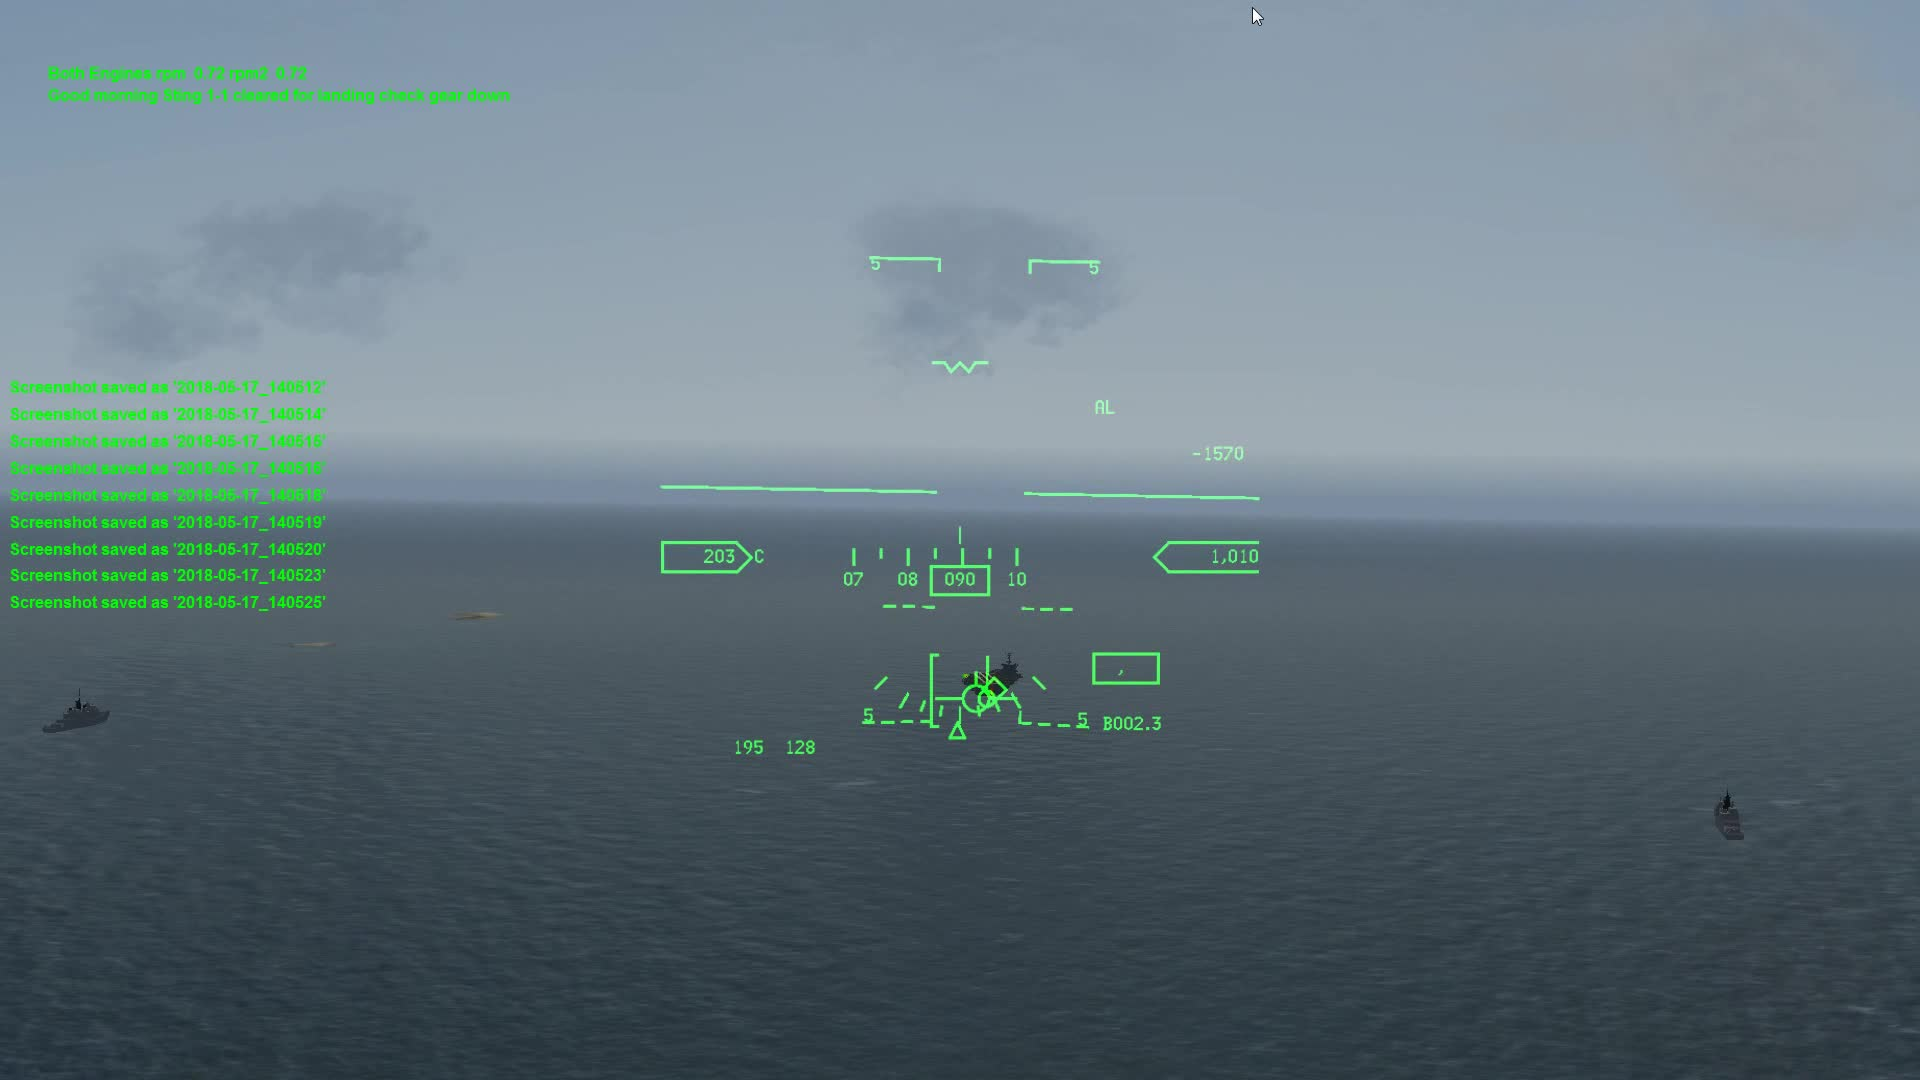speed vector: (932, 647, 1021, 716)
